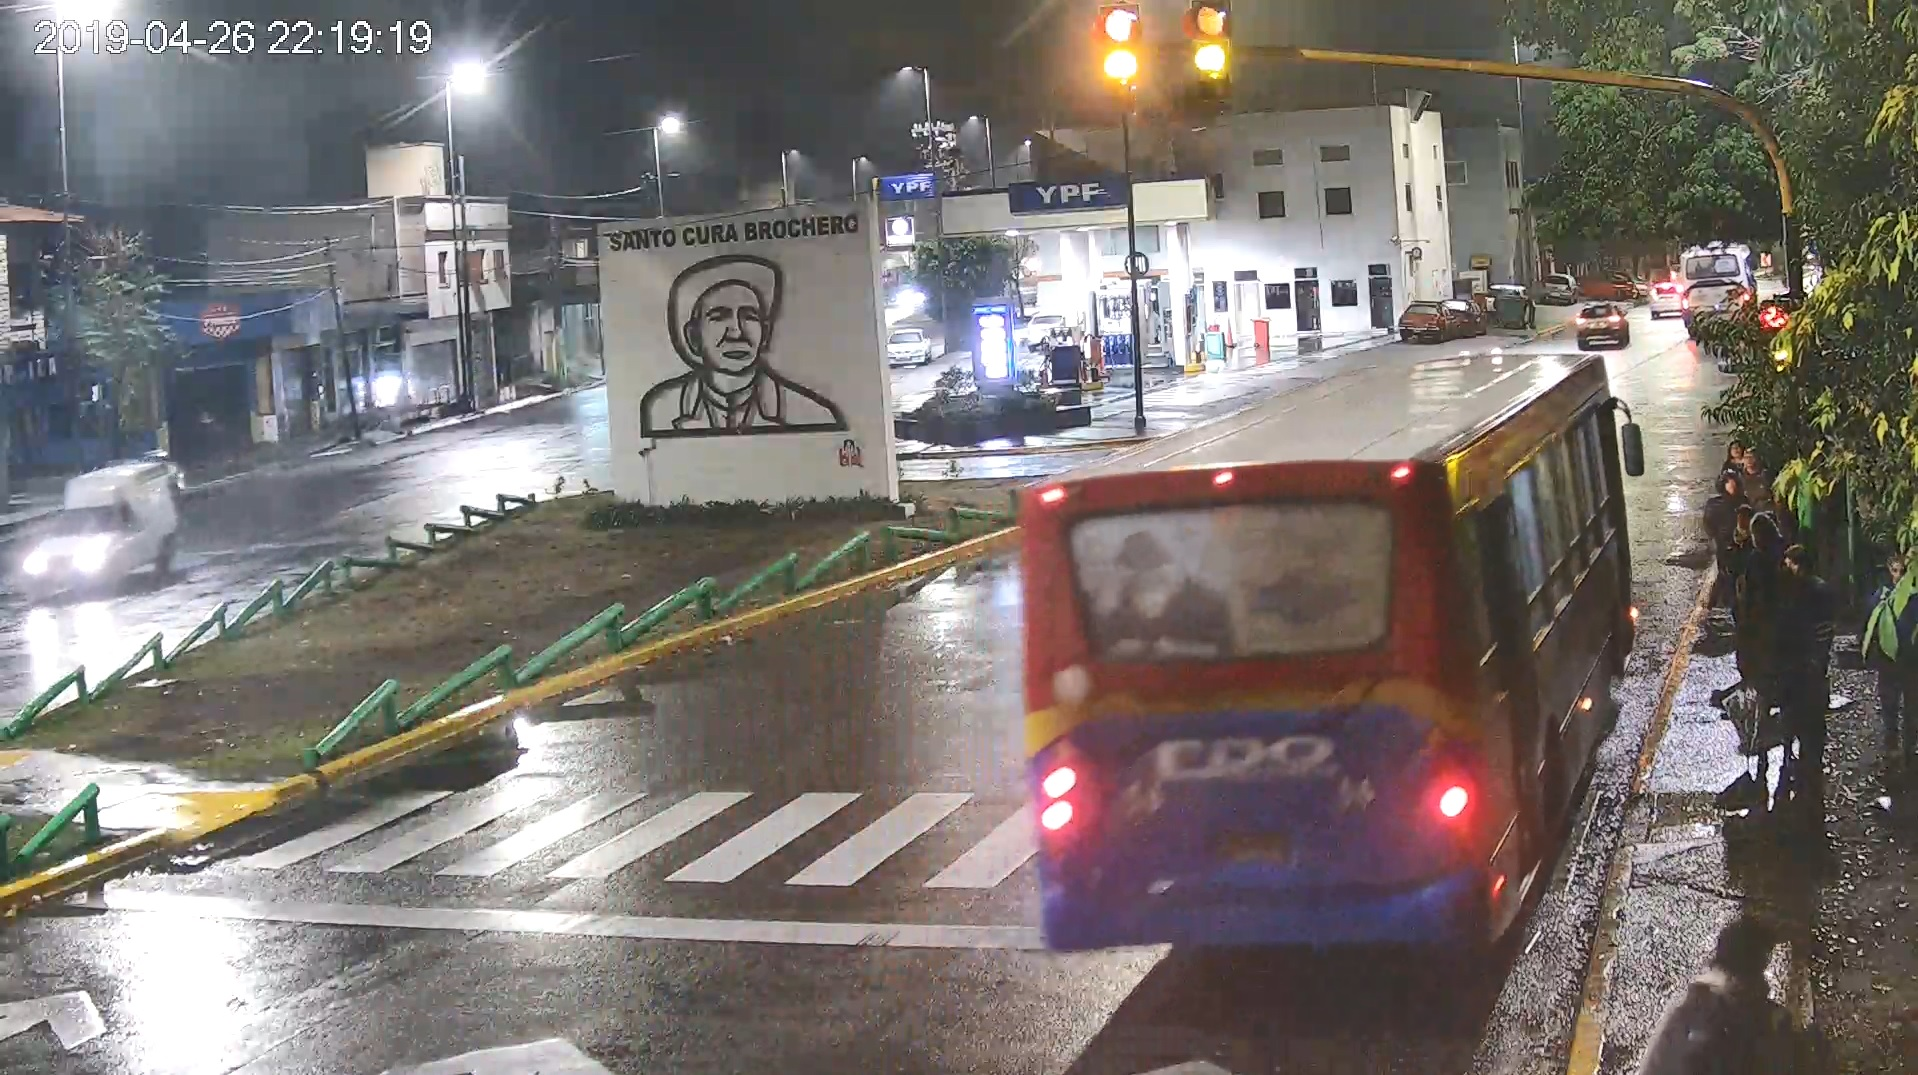bus: (995, 341, 1658, 1003)
car: (18, 458, 180, 605), (1556, 292, 1637, 354)
